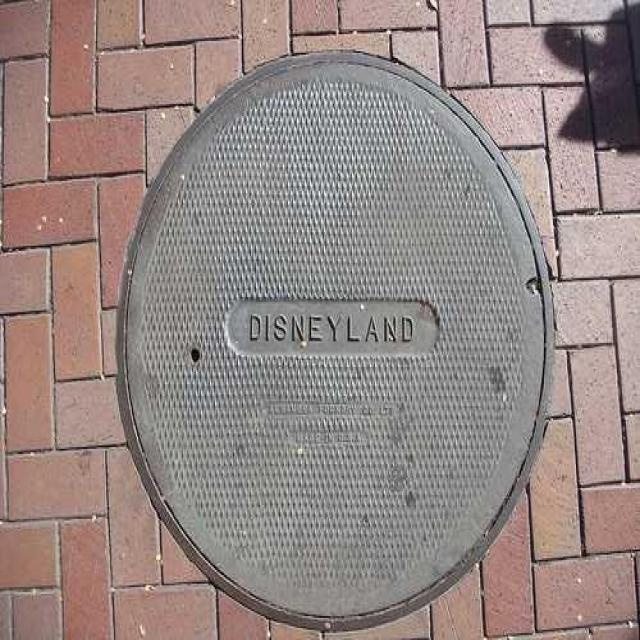manhole: (115, 51, 556, 635)
